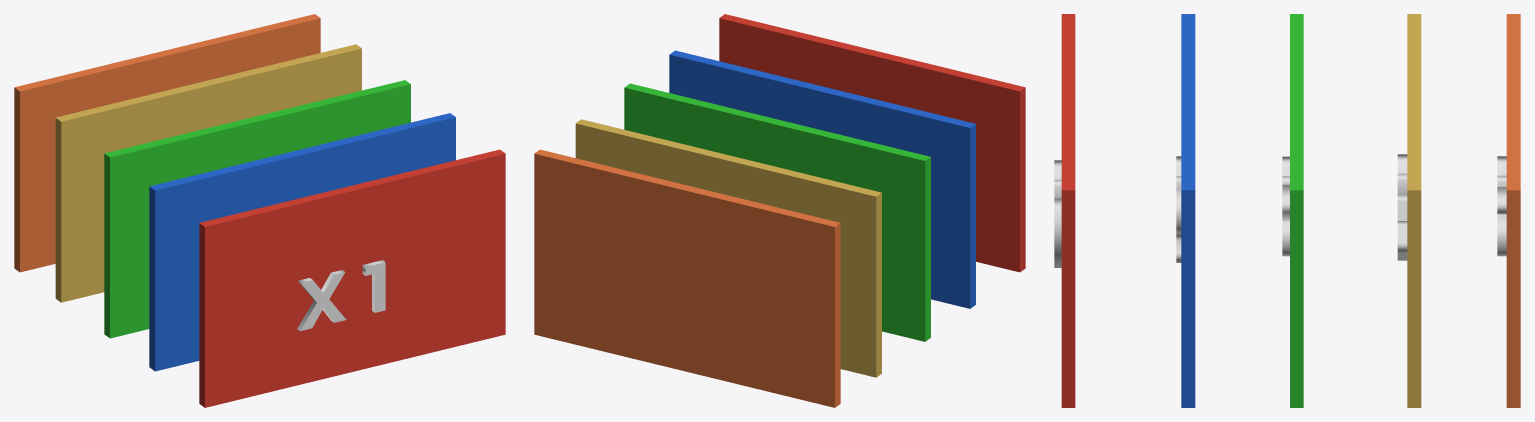
Rendered from TAP TAP.fbx.
The picture shows the model from 3 angles, left to right: view 1: azimuth 30°, elevation 25°; view 2: azimuth 150°, elevation 25°; view 3: azimuth 270°, elevation 25°; orthographic projection. The views are drawn at different scales.
Parts seen in each view (by area): view 1: Cube, Cube.001, Cube.003, Cube.002, Cube.004, Text; view 2: Cube.004, Cube, Cube.002, Cube.001, Cube.003; view 3: Cube, Cube.001, Cube.003, Cube.004, Cube.002, Text.003, Text.004, Text, Text.002, Text.001.
Part boxes in pixels (left/top/right/bottom): Cube: left=199, top=149, right=505, bottom=407; Cube.001: left=149, top=113, right=455, bottom=371; Cube.003: left=55, top=44, right=361, bottom=302; Cube.002: left=104, top=80, right=410, bottom=338; Cube.004: left=14, top=14, right=320, bottom=272; Text: left=297, top=260, right=385, bottom=331; Cube.004: left=534, top=149, right=840, bottom=407; Cube: left=719, top=14, right=1025, bottom=272; Cube.002: left=624, top=83, right=930, bottom=341; Cube.001: left=669, top=50, right=975, bottom=308; Cube.003: left=575, top=119, right=881, bottom=377; Cube: left=1061, top=14, right=1075, bottom=407; Cube.001: left=1181, top=14, right=1195, bottom=407; Cube.003: left=1407, top=14, right=1421, bottom=407; Cube.004: left=1506, top=14, right=1520, bottom=407; Cube.002: left=1290, top=14, right=1303, bottom=407; Text.003: left=1397, top=154, right=1407, bottom=260; Text.004: left=1497, top=156, right=1506, bottom=256; Text: left=1054, top=160, right=1061, bottom=267; Text.002: left=1282, top=156, right=1289, bottom=256; Text.001: left=1176, top=156, right=1181, bottom=262.
Size of the model in its own units: 1241 by 713 by 1385.
